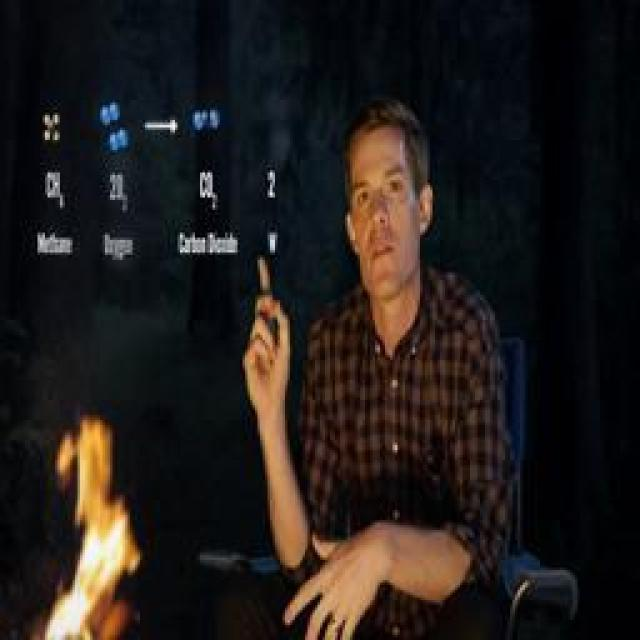Fire: (41, 412, 141, 640)
